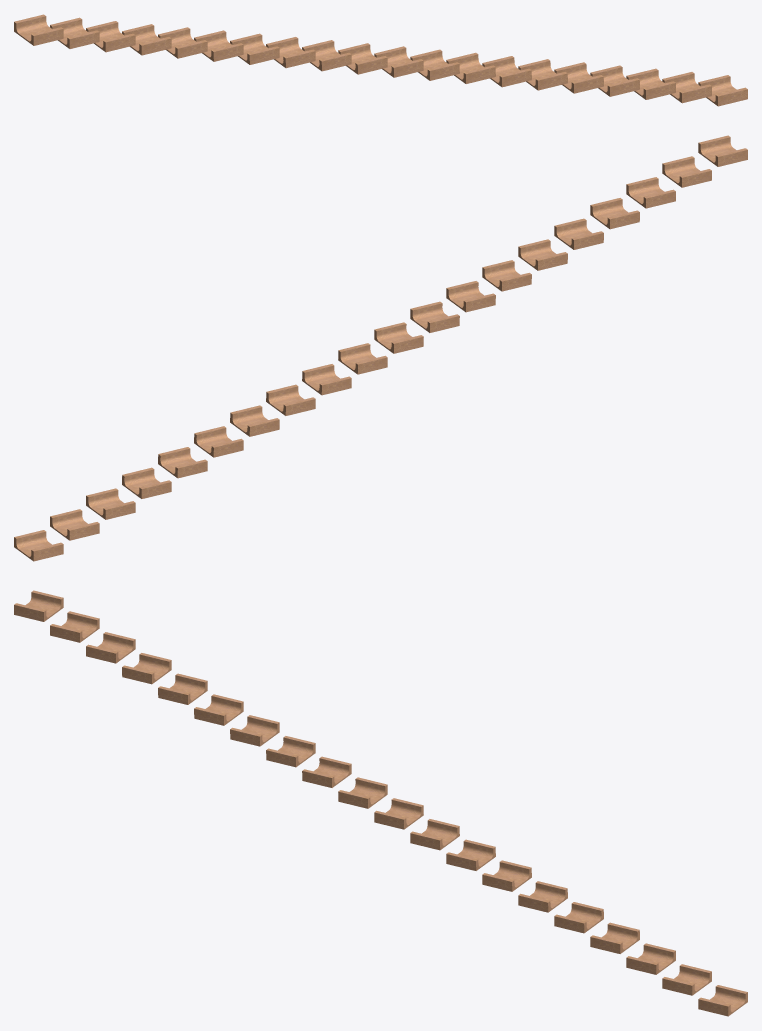
Rendered from Wood Ramp.fbx.
The picture shows the model from 3 angles, top to bottom: view 1: azimuth 30°, elevation 25°; view 2: azimuth 210°, elevation 25°; view 3: azimuth 330°, elevation 25°; orthographic projection.
Parts seen in each view (by area): view 1: Plane.004; view 2: Plane.004; view 3: Plane.004.
Part boxes in pixels (box(x1,y1,x2,y2)): Plane.004: box(14, 14, 747, 106); Plane.004: box(14, 135, 747, 561); Plane.004: box(14, 590, 747, 1016).
Bounding box in the file's own units: 66061 × 20979 × 3148.
